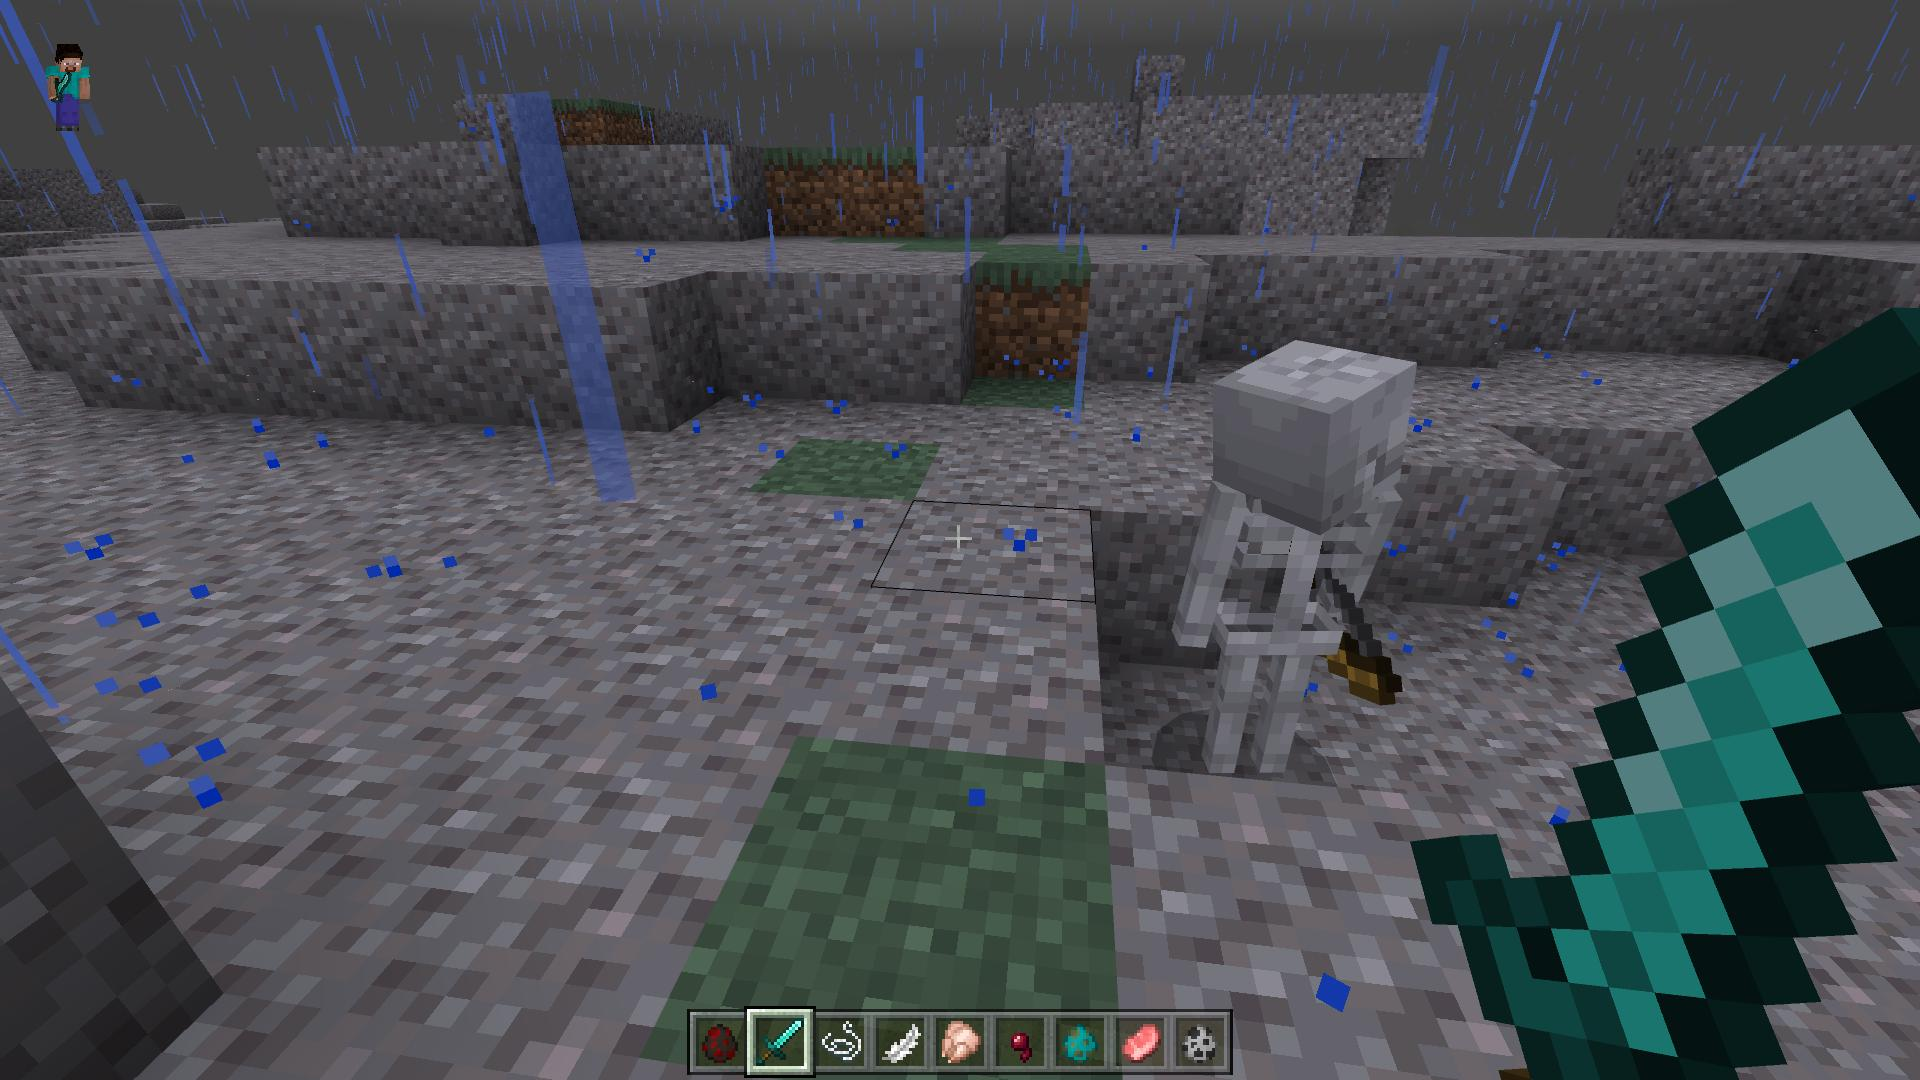skeleton: (1174, 339, 1404, 770)
